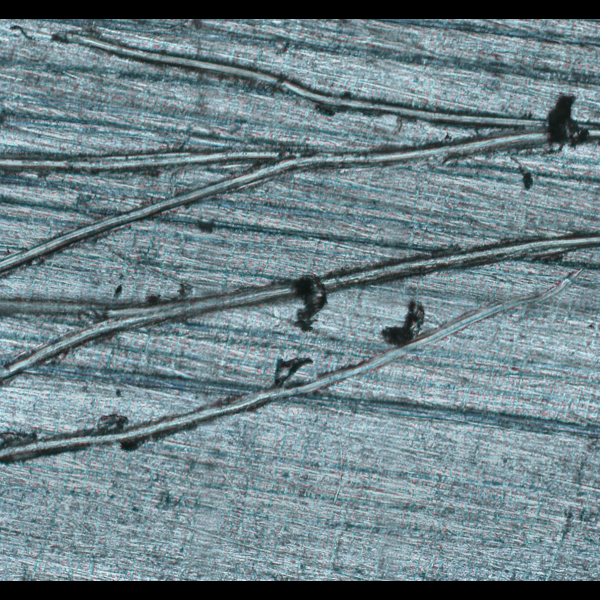d: (0, 23, 600, 488)
